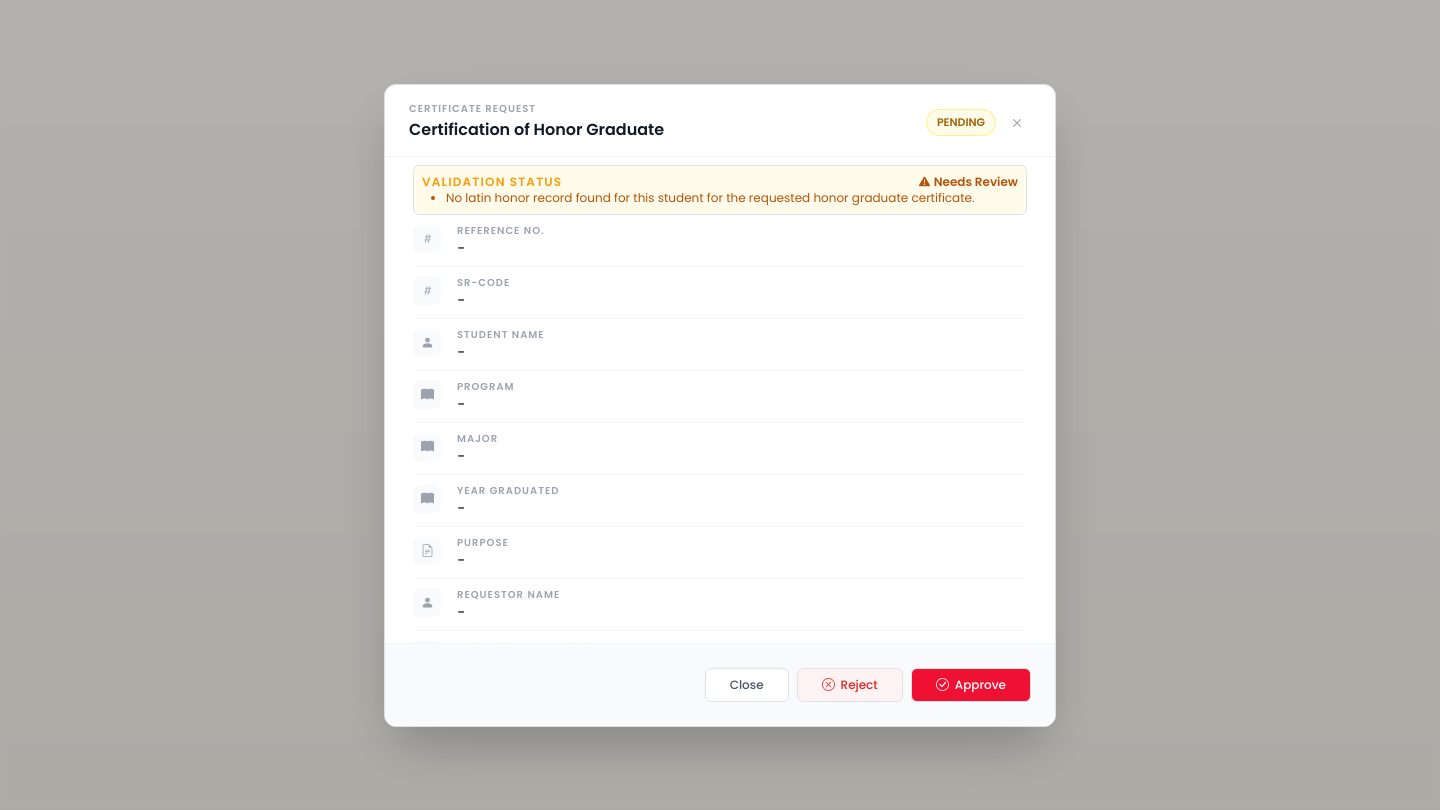
Test: RequestModal › suggests verifying latin honor for honor graduate validation flags
This screenshot has width=1440, height=810.
Click the button "Reject" at (850, 684), box [796,668,903,702]
(page scrolled)
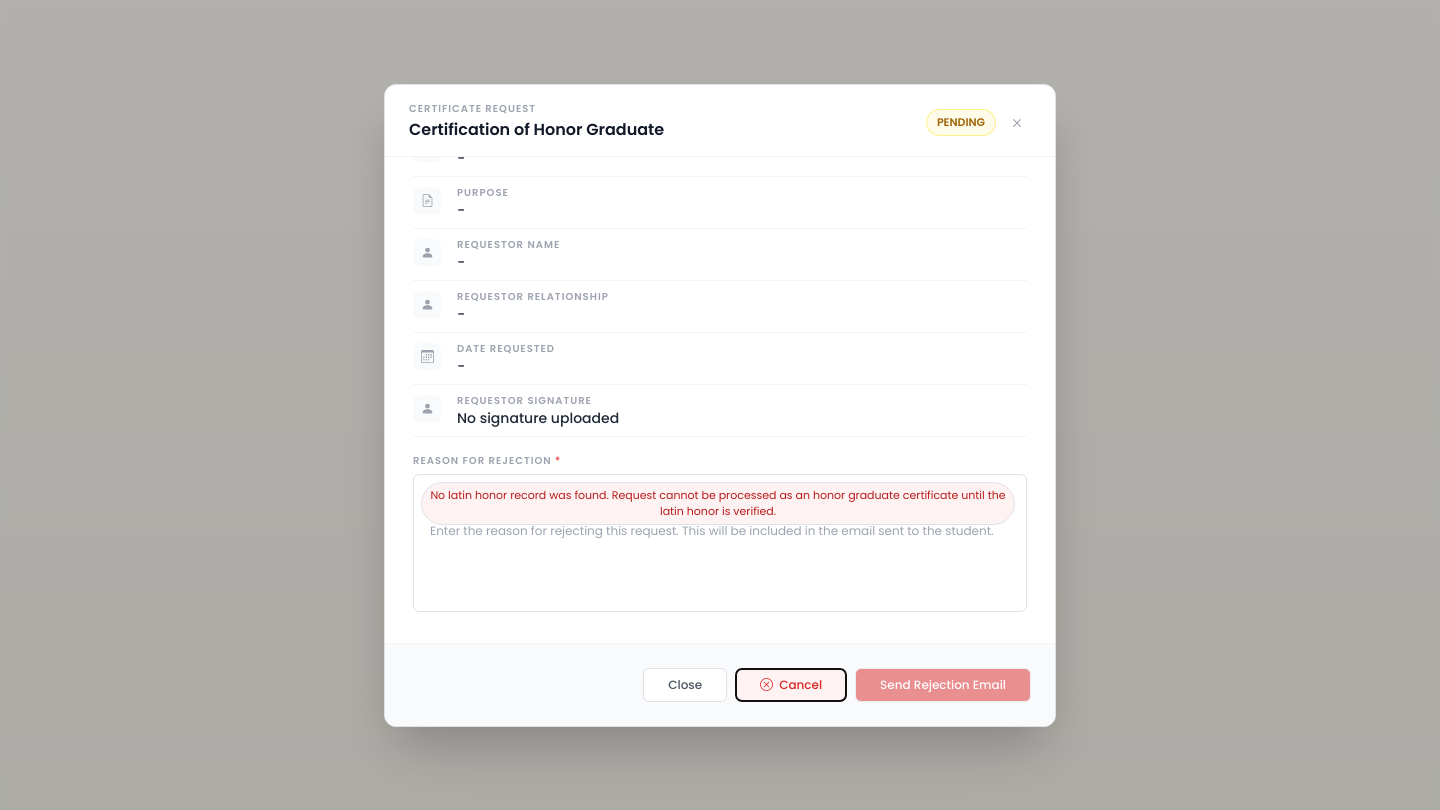
Click the button "No latin honor record was found" at (718, 503), box [421,482,1015,524]
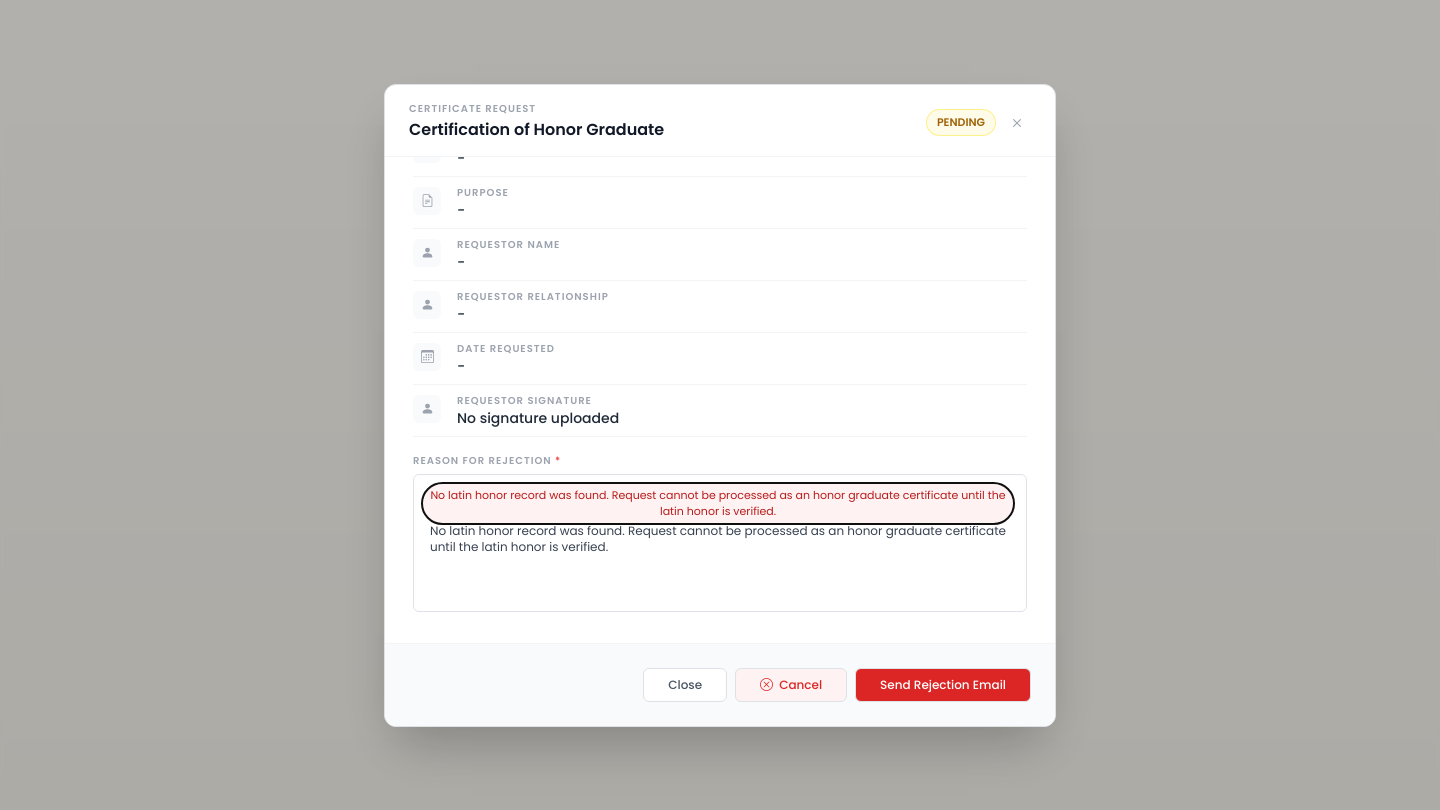
Check: the text box with placeholder "reason for rejecting" holds "No latin honor record was found. Request cannot be processed as an honor graduate certificate until the latin honor is verified.", box [413,474,1027,612]
